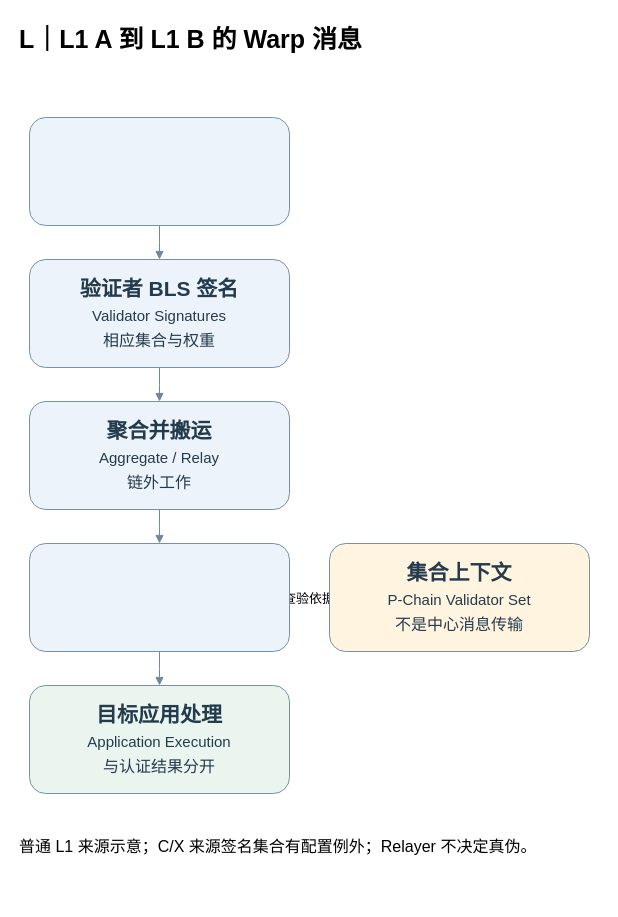
The diagram is 618 pixels wide and 917 high, and some of its shapes have lost their labels. The shapes that lost their labels are listed below. From the top down, each one's box as (x1, y1, x2, y2) in pixels, then its label:
(28, 116, 290, 226): L1 A 产生消息 Source Message VM 按规则处理
(28, 542, 290, 652): 目标 L1 B 验证 Destination Verification P 高度 · 公钥 · 门槛
